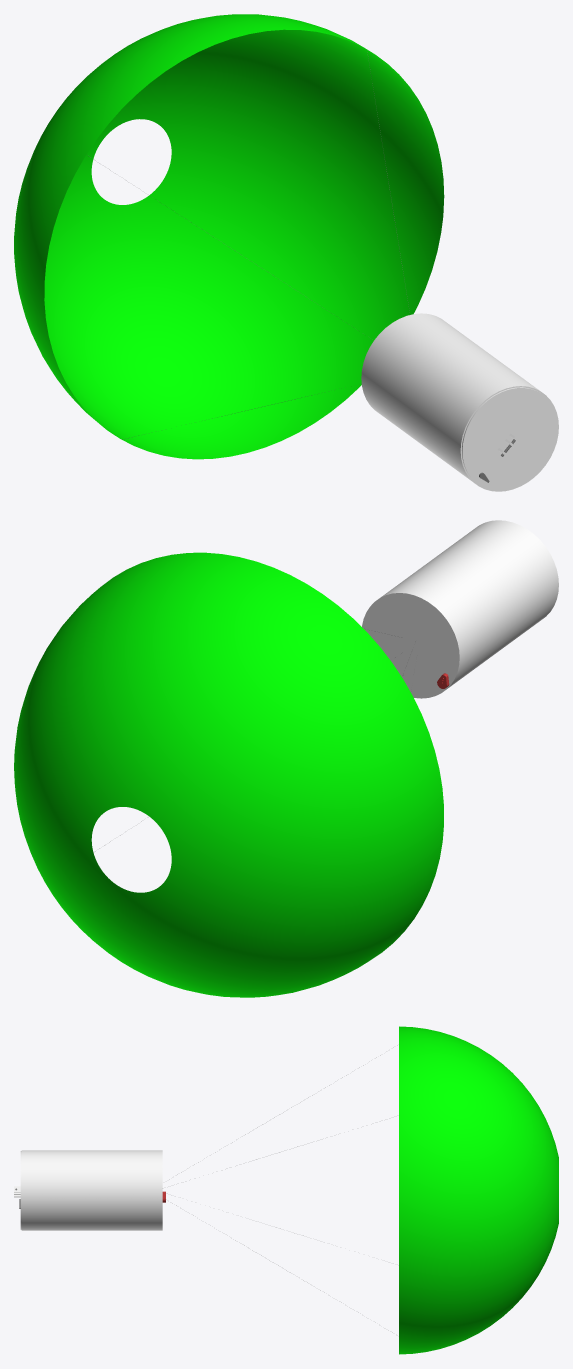
Rendered from Payload assembly 4 (1).obj.
3 views of the same model, one above another, from view 1: azimuth 30°, elevation 25°; view 2: azimuth 150°, elevation 25°; view 3: azimuth 270°, elevation 25° (orthographic). The views are drawn at different scales.
Visible parts, largest first — view 1: mesh 5 SERVO DEMO-1, mesh 2 Boss-Extrude21; view 2: mesh 5 SERVO DEMO-1, mesh 2 Boss-Extrude21; view 3: mesh 5 SERVO DEMO-1, mesh 2 Boss-Extrude21.
Boxes of the visible parts, x1,y1,x2,y2 form: mesh 5 SERVO DEMO-1: (14, 14, 444, 459); mesh 2 Boss-Extrude21: (361, 313, 558, 491); mesh 5 SERVO DEMO-1: (14, 552, 443, 997); mesh 2 Boss-Extrude21: (362, 520, 558, 698); mesh 5 SERVO DEMO-1: (399, 1026, 558, 1354); mesh 2 Boss-Extrude21: (14, 1150, 162, 1230).
Size of the model in its own units: 0.4998 by 0.4999 by 0.8304.
